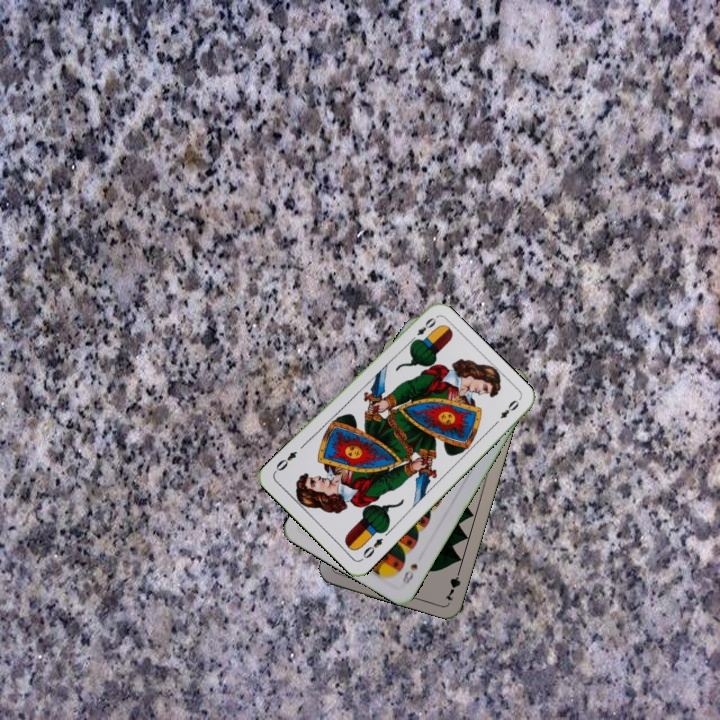EO: (406, 314, 439, 346), (359, 534, 386, 561)
G7: (441, 564, 463, 603)
S8: (398, 559, 420, 589)
